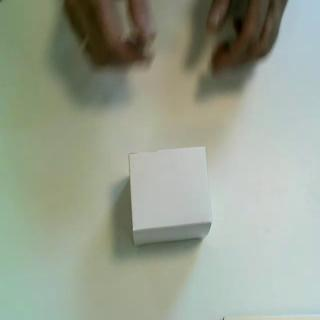apodorm5mg: (127, 145, 215, 249)
